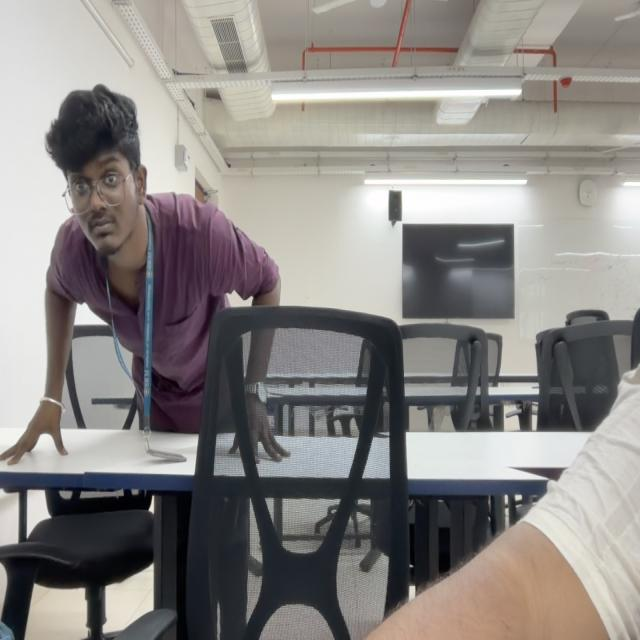ravindra: (47, 82, 148, 269)
